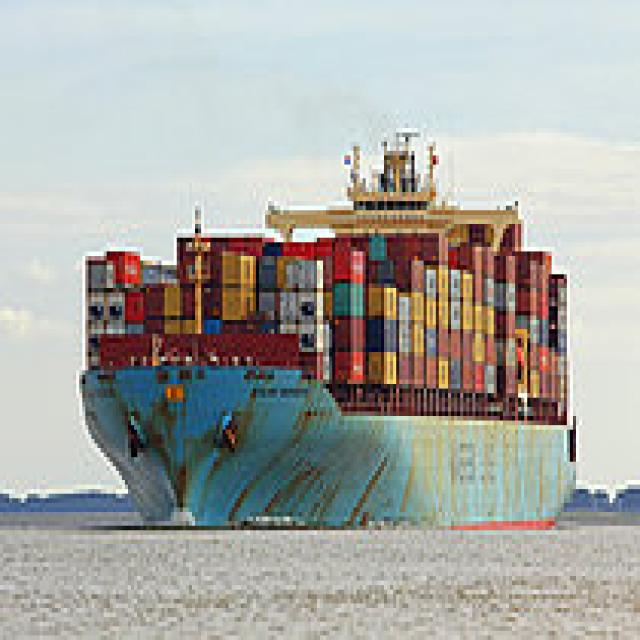Cargo: (73, 124, 576, 530)
